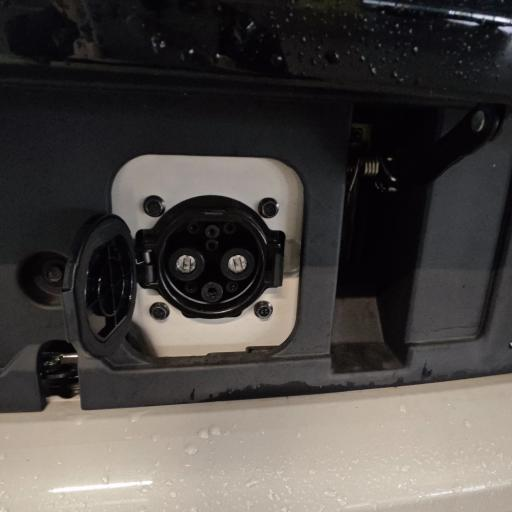DC_charging_port: (150, 202, 269, 318)
DC_hole: (218, 245, 257, 283), (167, 247, 205, 281)
PE: (200, 281, 224, 302)
